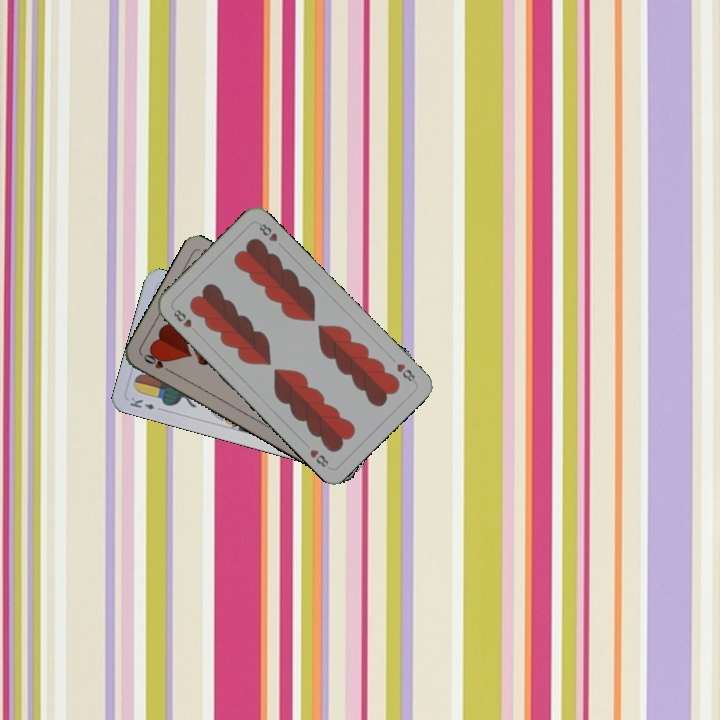EK: (126, 393, 158, 412)
H8: (169, 305, 200, 336), (393, 359, 419, 386)
HO: (139, 350, 176, 376)
